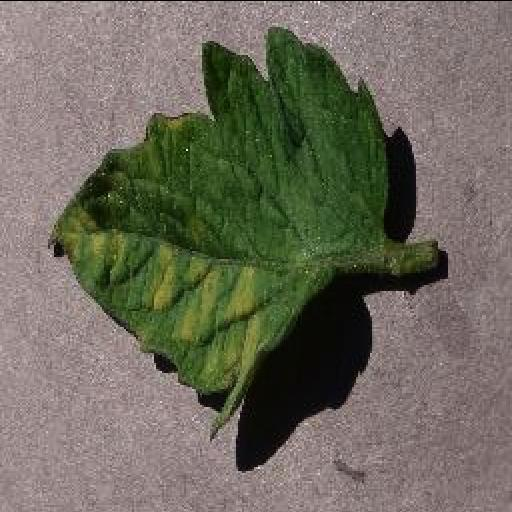disease_tomato: (45, 26, 391, 442)
